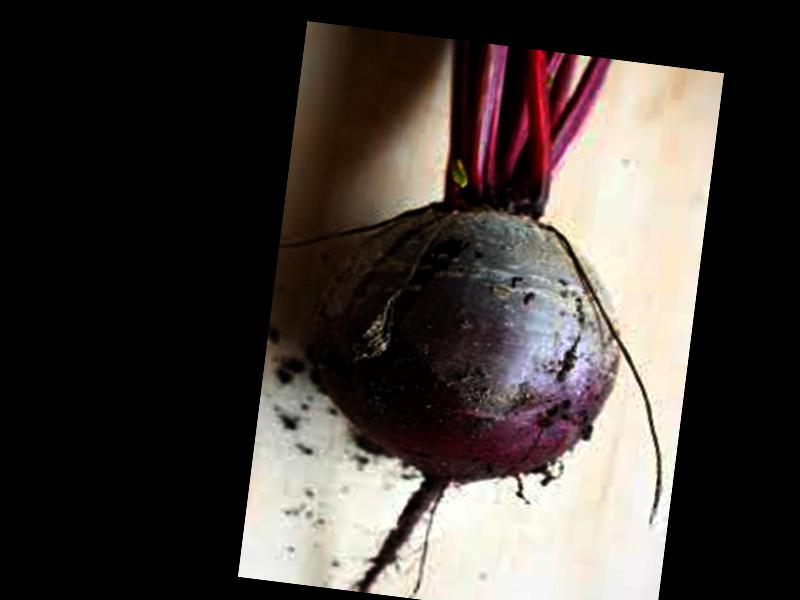Beet: (283, 31, 714, 600)
